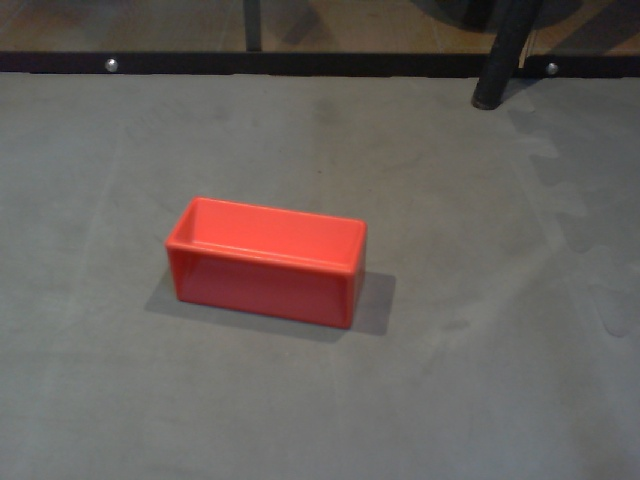RedSample: (161, 194, 370, 332)
